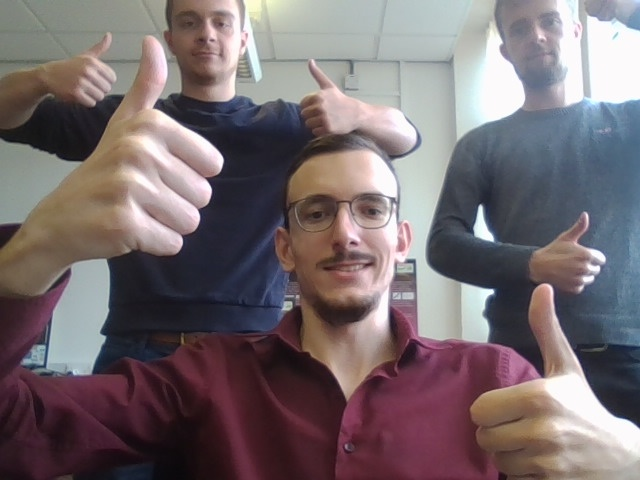thumbup: (58, 35, 221, 253), (465, 282, 640, 480), (41, 33, 116, 107), (539, 212, 605, 296), (299, 58, 367, 137)
